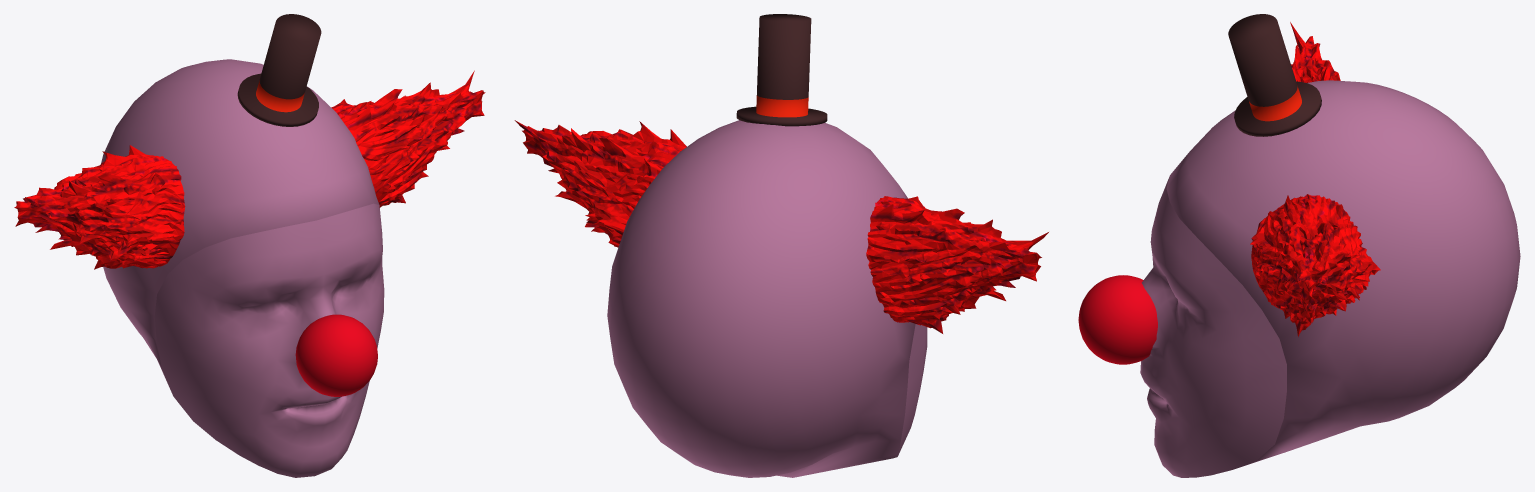
File: Clown.glb
3 renders of one model, left to right at view 1: azimuth 30°, elevation 25°; view 2: azimuth 150°, elevation 25°; view 3: azimuth 270°, elevation 25°, orthographic. The views are drawn at different scales.
Visible parts, largest first — view 1: OccluderFace, OccluderHead, ClownHairL, ClownHairR, Tophat, ClownNose; view 2: OccluderHead, ClownHairL, ClownHairR, Tophat, OccluderFace; view 3: OccluderHead, OccluderFace, ClownHairR, Tophat, ClownNose, ClownHairL.
Boxes of the visible parts, x1,y1,x2,y2 form: OccluderFace: [154, 203, 384, 477]; OccluderHead: [101, 59, 379, 392]; ClownHairL: [14, 145, 185, 269]; ClownHairR: [331, 70, 485, 207]; Tophat: [237, 14, 321, 126]; ClownNose: [295, 314, 377, 396]; OccluderHead: [607, 120, 915, 477]; ClownHairL: [866, 196, 1048, 333]; ClownHairR: [514, 120, 686, 247]; Tophat: [736, 14, 827, 126]; OccluderFace: [898, 324, 927, 455]; OccluderHead: [1166, 80, 1520, 468]; OccluderFace: [1140, 177, 1286, 477]; ClownHairR: [1250, 194, 1380, 336]; Tophat: [1228, 14, 1321, 136]; ClownNose: [1078, 275, 1157, 364]; ClownHairL: [1290, 22, 1340, 82].
Bounding box in the file's own units: 0.3396 × 0.2893 × 0.2535.
6 materials, 2 textured.
